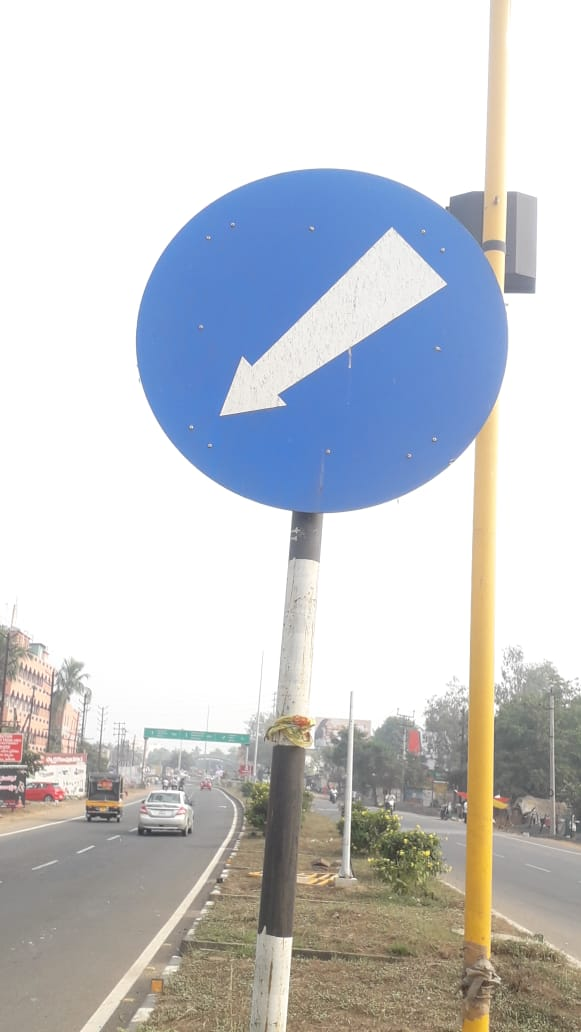go left: (125, 141, 510, 580)
